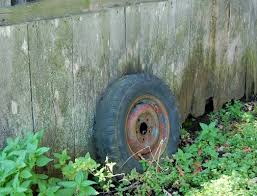tire: (95, 73, 181, 178)
